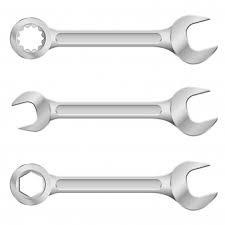wrench: (9, 84, 219, 137)
